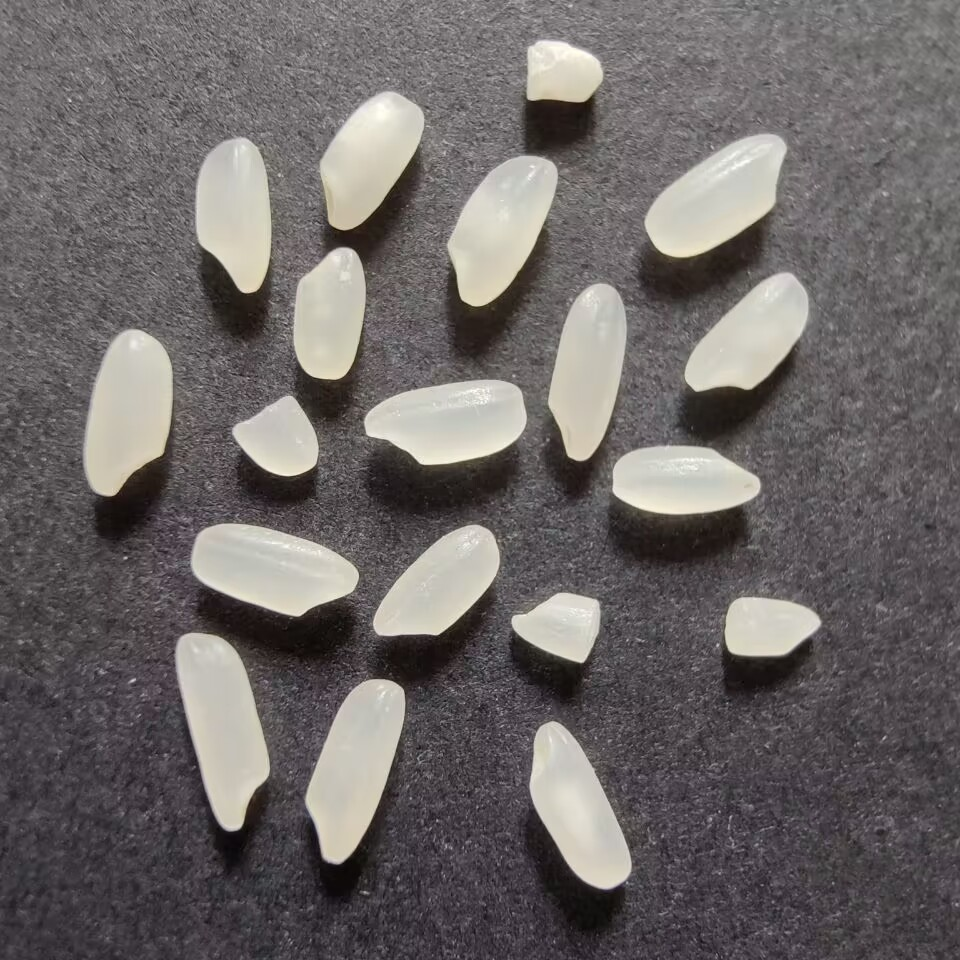broken: (719, 587, 826, 666), (506, 588, 605, 673), (228, 394, 323, 481), (516, 35, 606, 106)
rice: (165, 628, 280, 838), (634, 130, 800, 264), (301, 674, 411, 872), (519, 717, 638, 893), (444, 152, 561, 308), (80, 324, 181, 503), (542, 276, 635, 469), (677, 269, 815, 397), (312, 86, 427, 237), (356, 374, 532, 469), (365, 520, 504, 639), (189, 522, 361, 618), (185, 134, 274, 297), (601, 444, 769, 517), (286, 245, 370, 384)
